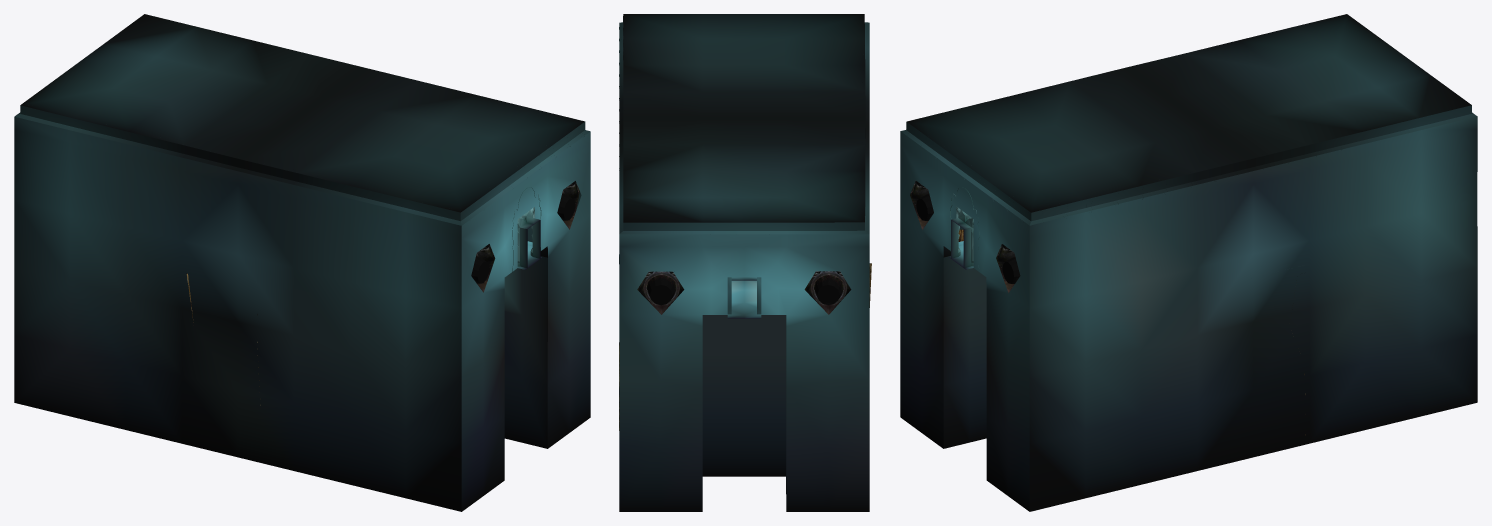
3 renders of one model, left to right at view 1: azimuth 30°, elevation 25°; view 2: azimuth 150°, elevation 25°; view 3: azimuth 270°, elevation 25°, orthographic. The views are drawn at different scales.
Visible parts, largest first — view 1: node-0059F992, node-01D11BBA, node-0037B0DA, node-005481BD, node-0329C622; view 2: node-0059F992, node-01D11BBA, node-0037B0DA, node-005481BD, node-0077F734, node-00A574DB, node-02BD0CFB; view 3: node-0059F992, node-01D11BBA, node-0037B0DA, node-005481BD, node-0329C622.
Part boxes in pixels (x1,y1,x2,y2): node-0059F992: (14,117,590,511); node-01D11BBA: (20,14,584,212); node-0037B0DA: (14,105,590,225); node-005481BD: (471,181,579,292); node-0329C622: (512,187,541,271); node-0059F992: (619,234,869,511); node-01D11BBA: (623,14,865,222); node-0037B0DA: (619,16,869,234); node-005481BD: (637,271,851,314); node-0077F734: (727,290,761,318); node-00A574DB: (727,277,761,314); node-02BD0CFB: (619,254,870,290); node-0059F992: (900,116,1477,511); node-01D11BBA: (907,14,1471,212); node-0037B0DA: (900,105,1477,225); node-005481BD: (910,180,1020,292); node-0329C622: (950,187,979,267).
Bounding box in the file's own units: 1119 × 760 × 1339.
